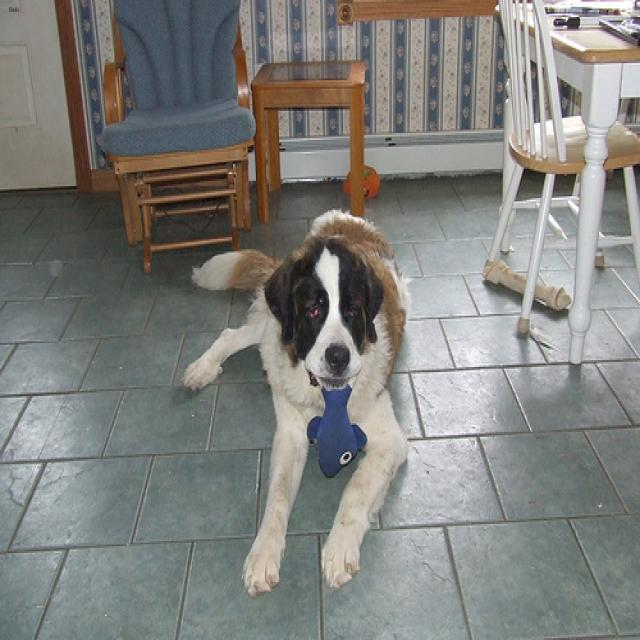dog-saint_bernard: (177, 201, 415, 608)
